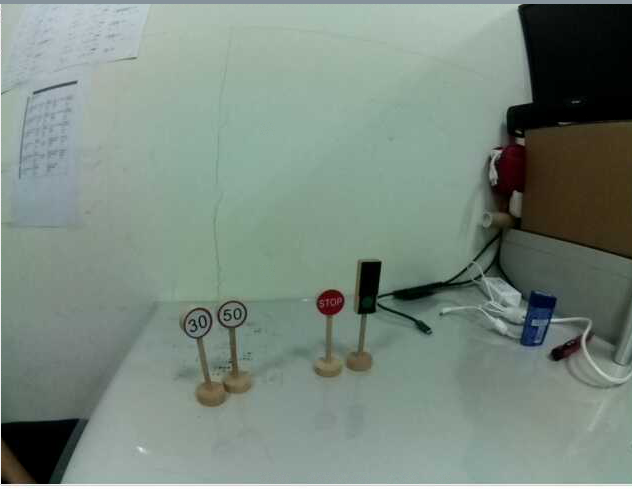Green: (354, 248, 381, 319)
Speed30: (174, 301, 214, 343)
Speed50: (216, 297, 251, 332)
Stop: (311, 280, 348, 319)
